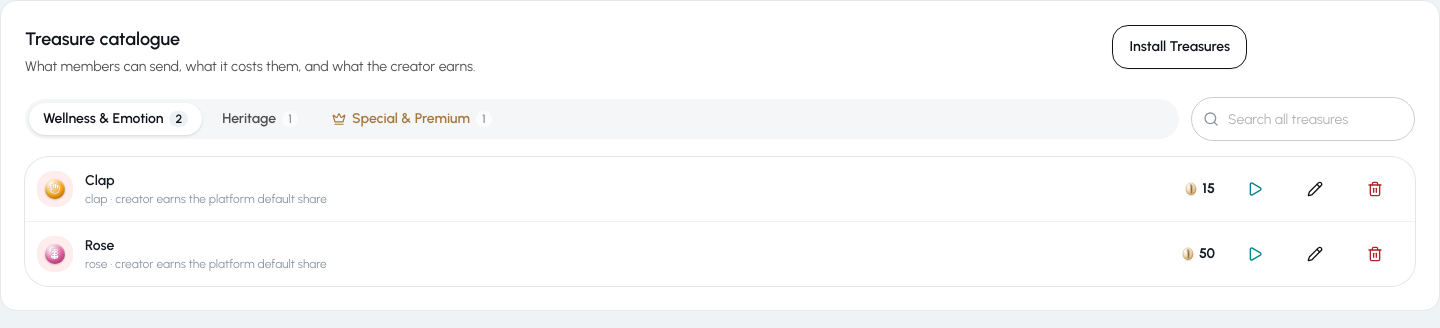
Test case: the catalogue › shows a deactivated treasure, marked, rather than hiding it
Expected: the text "Rose" is shown, [85,237,114,254]
Step 1. Click the tab "Special & Premium 1" → click(412, 119), box [318,103,506,135]
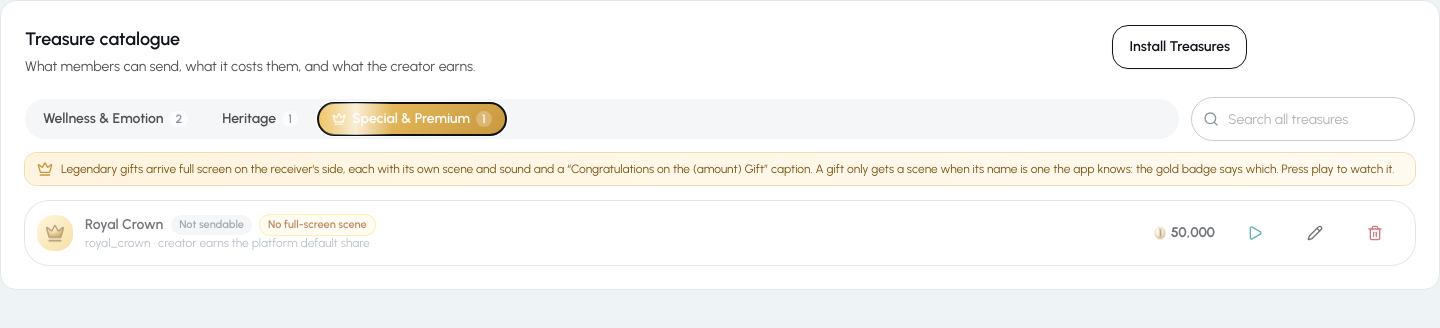
Expected: the text "Royal Crown" is shown, [85,216,163,233]
Expected: the text "Not sendable" is shown, [171,215,252,235]
